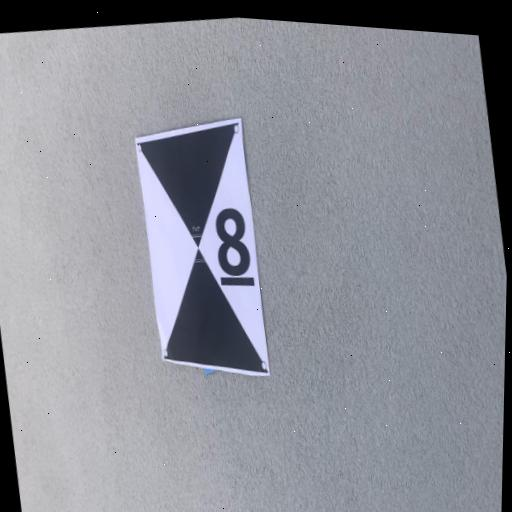target8: (135, 118, 271, 376)
